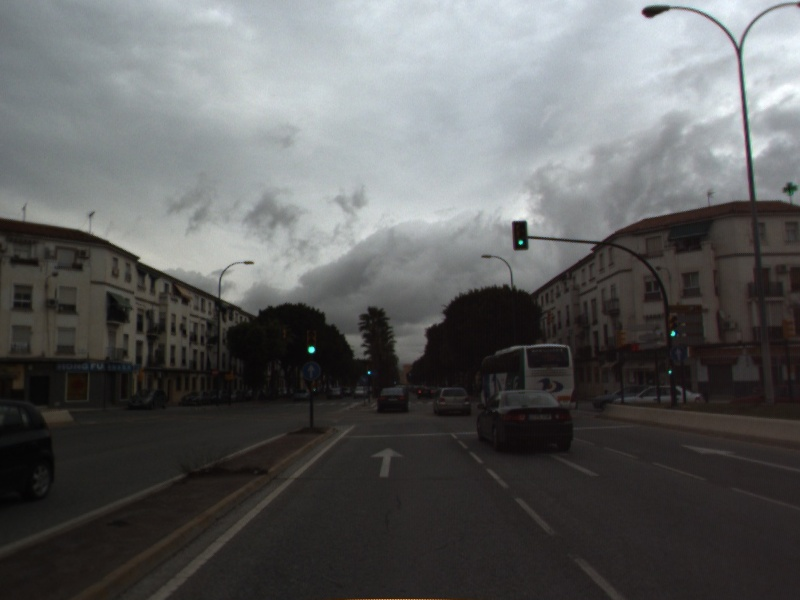STRAIGHT: (679, 442, 800, 473), (368, 445, 407, 480)
